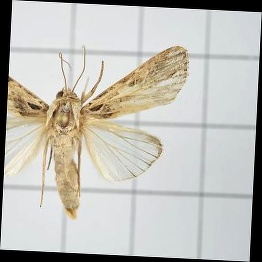Spodoptera litura: (6, 41, 186, 221)
